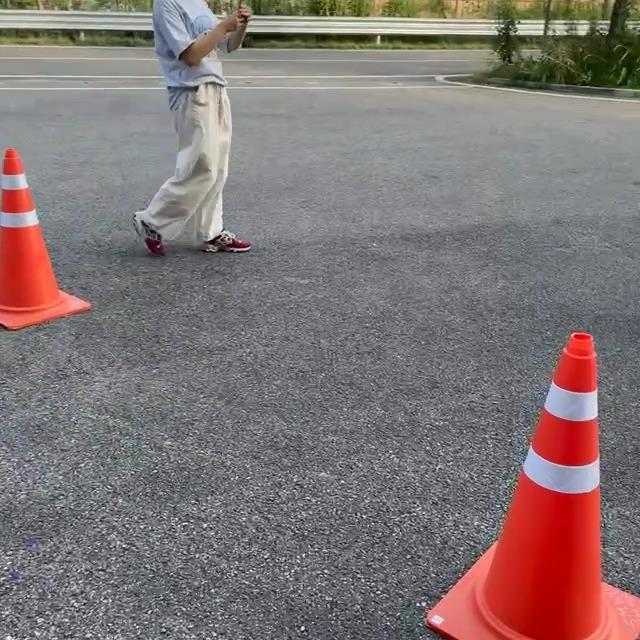fallen_object: (391, 256, 640, 640), (0, 124, 70, 331)
